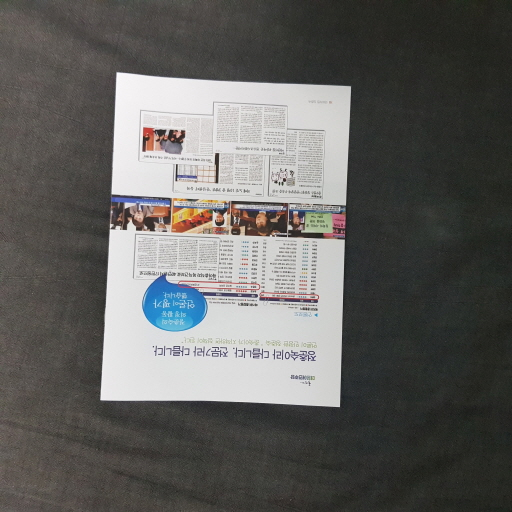Paper_2: (93, 65, 357, 423)
